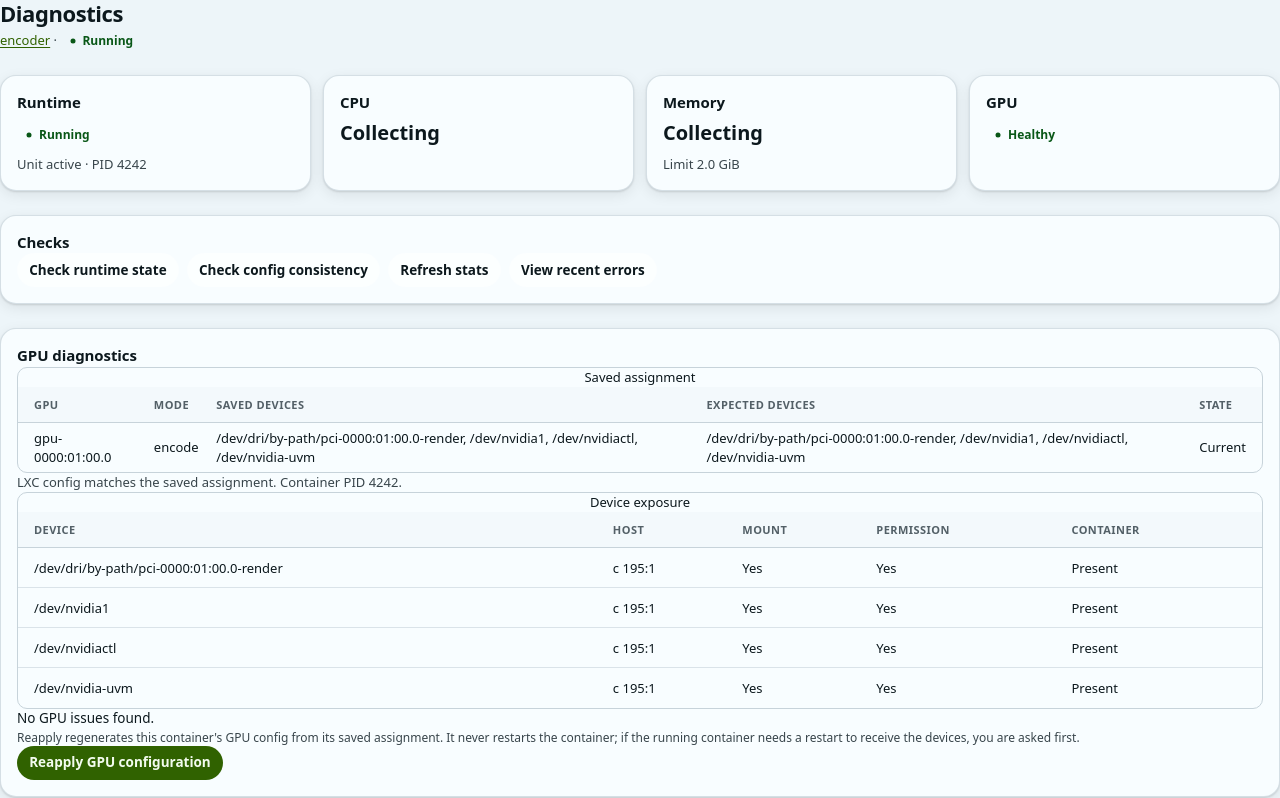
Test case: WorkloadDiagnosticsPage › shows recent error lines from the unit log
The width and height of the screenshot is (1280, 798).
Click the button "View recent errors".
click(583, 270)  # box [509, 253, 657, 287]
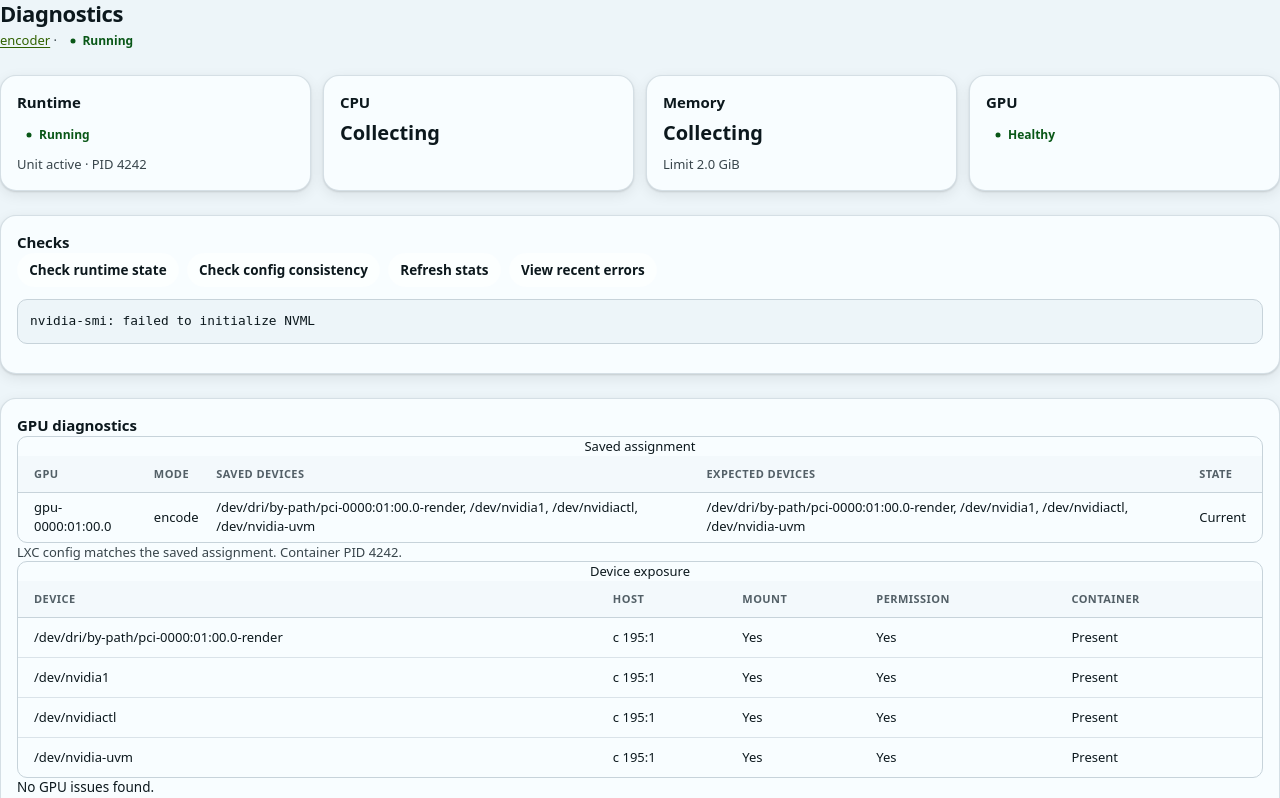
Expected: the text named "recent errors" does not show "started ok", [17, 299, 1263, 344]
Now the text named "recent errors" shows "failed to initialize NVML", box [30, 313, 315, 328]
